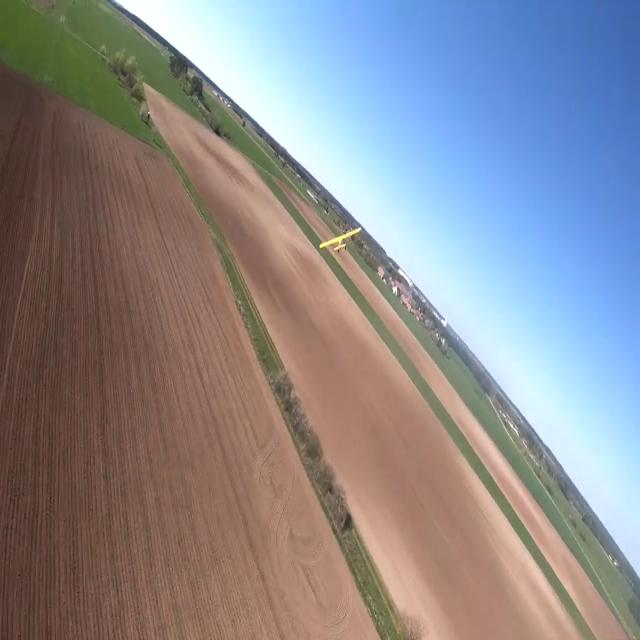iha: (316, 224, 363, 254)
